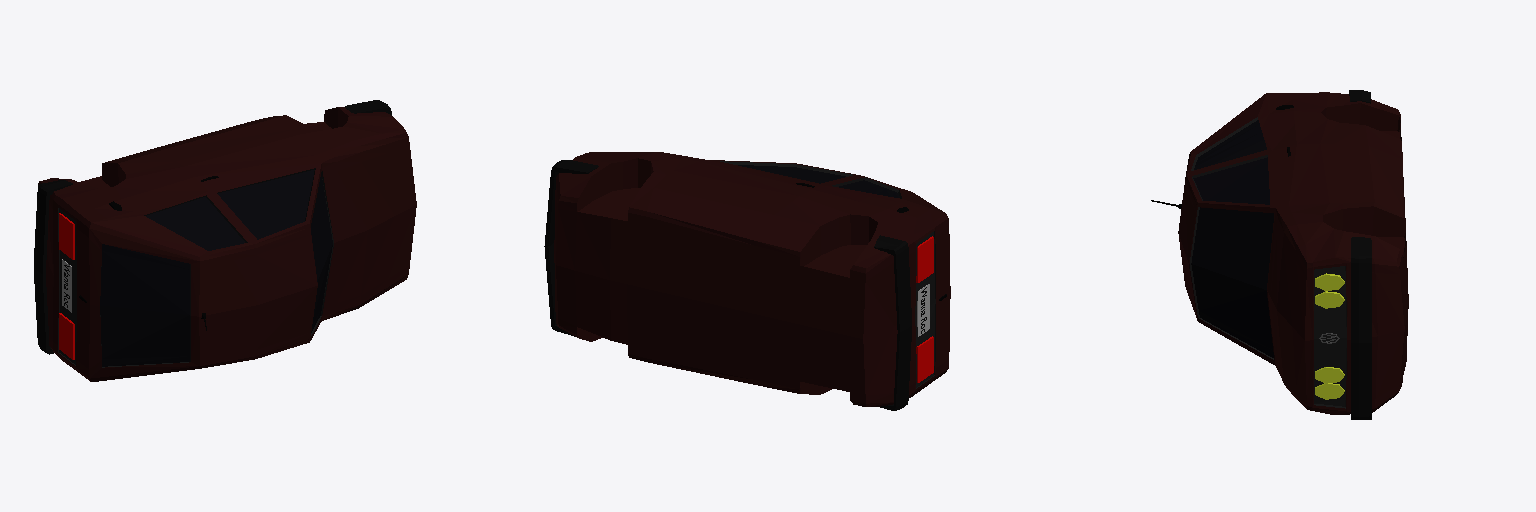
File: volks.obj
3 renders of one model, left to right at view 1: azimuth 30°, elevation 25°; view 2: azimuth 150°, elevation 25°; view 3: azimuth 270°, elevation 25°, orthographic.
Parts seen in each view (by area): view 1: Плоскость.003_Плоскость.002; view 2: Плоскость.003_Плоскость.002; view 3: Плоскость.003_Плоскость.002.
Boxes of the visible parts, x1=… form: Плоскость.003_Плоскость.002: x1=34, y1=100, x2=416, y2=381; Плоскость.003_Плоскость.002: x1=544, y1=152, x2=950, y2=410; Плоскость.003_Плоскость.002: x1=1151, y1=90, x2=1408, y2=419.
Size of the model in its own units: 7.25 by 3.39 by 4.52.